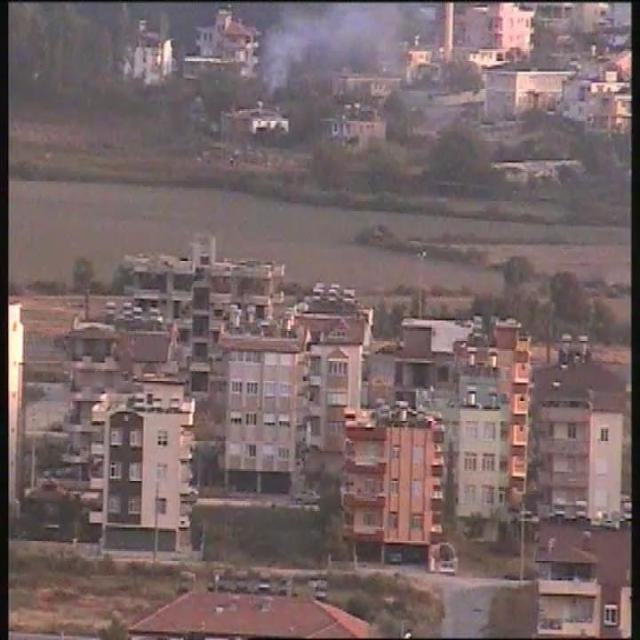Smoke: (261, 7, 413, 80)
